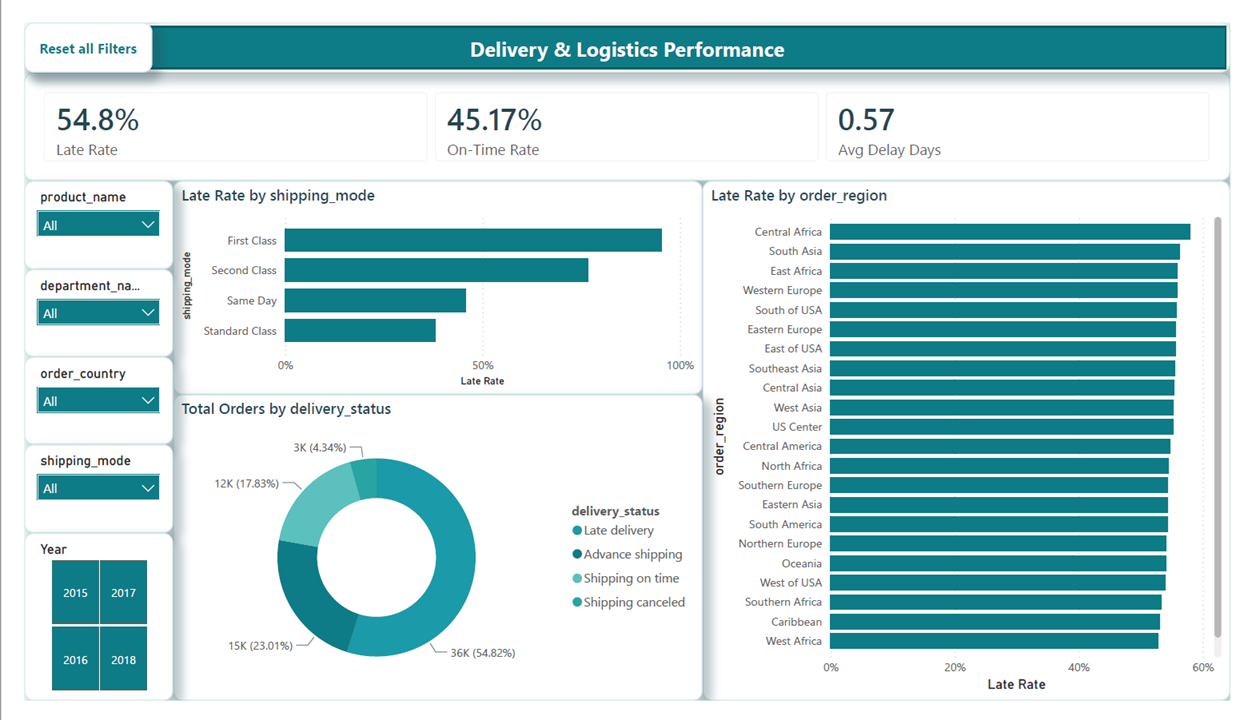

The dashboard page shown, as its layout file describes it:
{"tool":"powerbi","page":{"name":"Delivery & Logistics Performance ","canvas":[1280,720],"ordinal":2},"visuals":[{"type":"cardVisual","fields":{"Data":["fact_order_line.Late Rate","fact_order_line.On-Time Rate","fact_order_line.Avg Delay Days"]},"box":[0,53.3,1280,115],"z":0},{"type":"barChart","fields":{"Category":["dim_shipping_mode.shipping_mode"],"Y":["fact_order_line.Late Rate"]},"box":[158.3,168.3,561.7,226.7],"z":1000},{"type":"shape","title":"Sale and demans","box":[0,0,1280,53.3],"z":5000},{"type":"clusteredBarChart","fields":{"Category":["dim_geo.order_region"],"Y":["fact_order_line.Late Rate"]},"box":[720,168.3,560,551.7],"z":6000},{"type":"donutChart","fields":{"Category":["fact_order_line.delivery_status"],"Y":["fact_order_line.Total Orders"]},"box":[158.3,395,561.7,325],"z":7000},{"type":"slicer","fields":{"Values":["dim_product.product_name"]},"box":[0,168.3,158.3,93.3],"z":7001},{"type":"slicer","fields":{"Values":["dim_product.department_name"]},"box":[0,261.7,158.3,93.3],"z":7002},{"type":"slicer","fields":{"Values":["dim_geo.order_country"]},"box":[0,355,158.3,93.3],"z":7003},{"type":"slicer","fields":{"Values":["dim_shipping_mode.shipping_mode"]},"box":[0,448.3,158.3,93.3],"z":7004},{"type":"slicer","fields":{"Values":["dim_date.full_date.Variation.Date Hierarchy.Year"]},"box":[0,541.7,158.3,178.3],"z":7005},{"type":"actionButton","box":[0,0,116.7,53.3],"z":7006}]}

Visuals, with their boxes in screenshot pixels (x1, y1, x2, y2), scaled from the page's 1280x720 canvas onto the 1248x720 screenshot:
cardVisual - fact_order_line.Late Rate x fact_order_line.On-Time Rate: BBox(0, 53, 1247, 168)
barChart - dim_shipping_mode.shipping_mode x fact_order_line.Late Rate: BBox(154, 168, 702, 395)
"Sale and demans" shape: BBox(0, 0, 1247, 53)
clusteredBarChart - dim_geo.order_region x fact_order_line.Late Rate: BBox(702, 168, 1247, 719)
donutChart - fact_order_line.delivery_status x fact_order_line.Total Orders: BBox(154, 395, 702, 719)
slicer - dim_product.product_name: BBox(0, 168, 154, 262)
slicer - dim_product.department_name: BBox(0, 262, 154, 355)
slicer - dim_geo.order_country: BBox(0, 355, 154, 448)
slicer - dim_shipping_mode.shipping_mode: BBox(0, 448, 154, 542)
slicer - dim_date.full_date.Variation.Date Hierarchy.Year: BBox(0, 542, 154, 719)
actionButton: BBox(0, 0, 114, 53)
